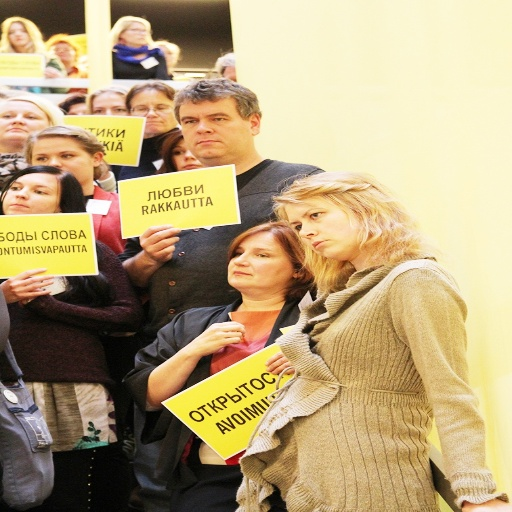hand: (191, 321, 245, 357), (137, 224, 180, 263), (16, 276, 47, 304), (262, 350, 298, 373), (461, 495, 510, 511), (44, 65, 61, 79), (98, 158, 107, 179)
